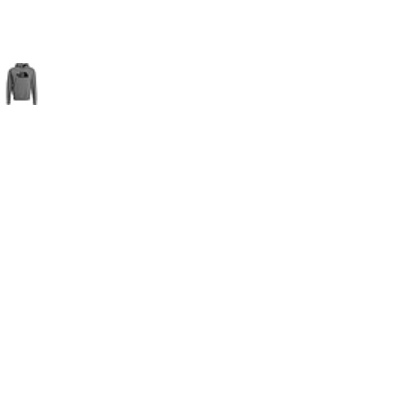Pullover: (0, 63, 42, 105)
